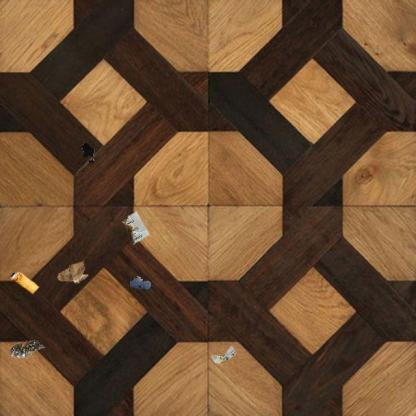dirty: (120, 210, 150, 244), (56, 260, 90, 286), (6, 270, 40, 296), (7, 339, 46, 360), (209, 344, 238, 366)
liquid: (129, 275, 152, 292), (81, 141, 96, 162)
